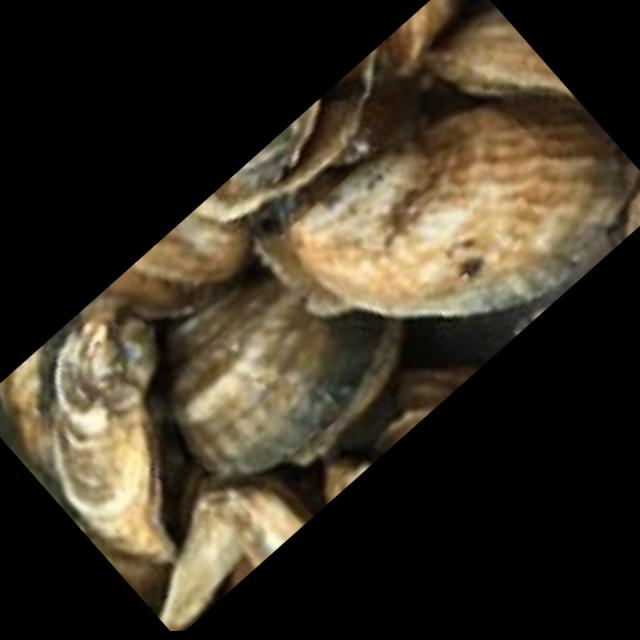Oyster-Closed: (56, 308, 178, 566), (399, 363, 471, 412)
Oyster-Indeterminate: (283, 92, 630, 321), (165, 274, 407, 482), (200, 46, 379, 221), (99, 205, 249, 318), (427, 0, 577, 101), (229, 99, 322, 190), (378, 0, 467, 73), (379, 410, 433, 456), (626, 194, 640, 235)
